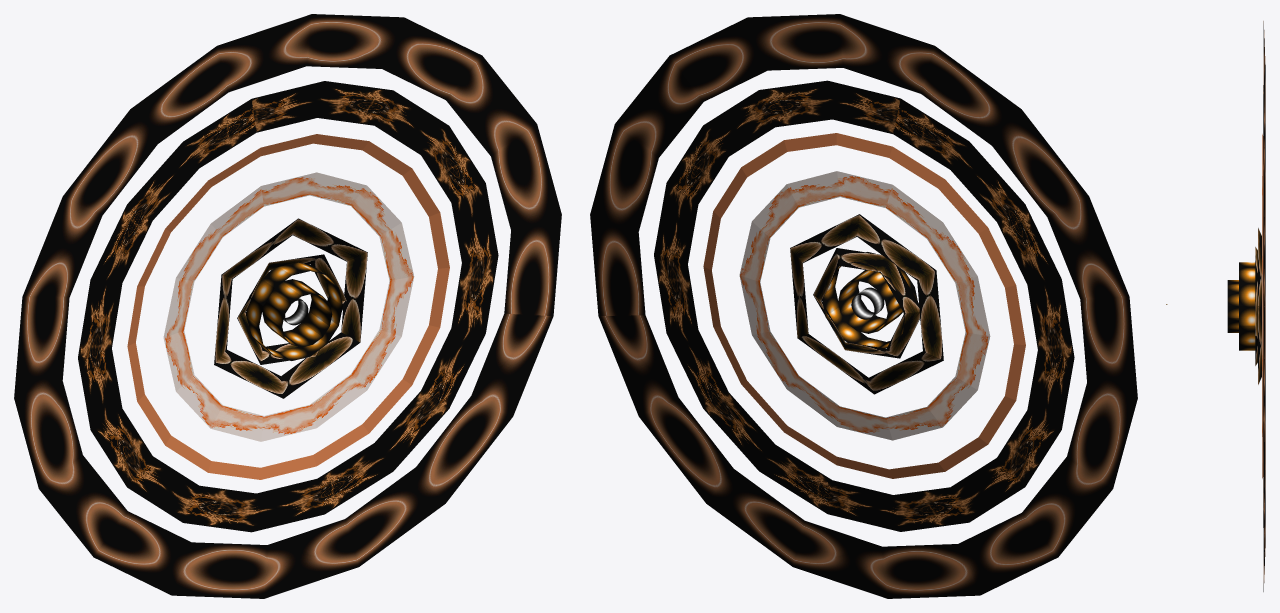
Rendered from tx_creatplayer_warrior_female.obj.
3 renders of one model, left to right at view 1: azimuth 30°, elevation 25°; view 2: azimuth 150°, elevation 25°; view 3: azimuth 270°, elevation 25°, orthographic. The views are drawn at different scales.
Visible parts, largest first — view 1: plane06, plane05, plane03, plane04, plane01, plane08, plane07, plane02; view 2: plane06, plane05, plane03, plane04, plane01, plane02, plane08, plane07; view 3: plane06, plane07, plane04, plane08, plane01, plane05, plane02, plane03.
Boxes of the visible parts, x1,y1,x2,y2 form: plane06: [14, 14, 561, 598]; plane05: [78, 81, 498, 532]; plane03: [163, 172, 414, 441]; plane04: [127, 134, 449, 479]; plane01: [214, 218, 367, 398]; plane08: [262, 279, 332, 347]; plane07: [246, 262, 342, 360]; plane02: [237, 254, 347, 364]; plane06: [590, 14, 1137, 598]; plane05: [654, 80, 1074, 531]; plane03: [739, 171, 990, 440]; plane04: [703, 133, 1025, 478]; plane01: [790, 214, 943, 394]; plane02: [813, 248, 920, 358]; plane08: [838, 270, 902, 333]; plane07: [821, 252, 917, 351]; plane06: [1263, 21, 1265, 591]; plane07: [1239, 262, 1255, 350]; plane04: [1262, 134, 1263, 478]; plane08: [1227, 280, 1238, 332]; plane01: [1258, 228, 1261, 384]; plane05: [1263, 85, 1263, 527]; plane02: [1255, 247, 1257, 365]; plane03: [1262, 176, 1262, 436].
Size of the model in its own units: 331 by 331 by 55.49.
8 materials, 8 textured.
